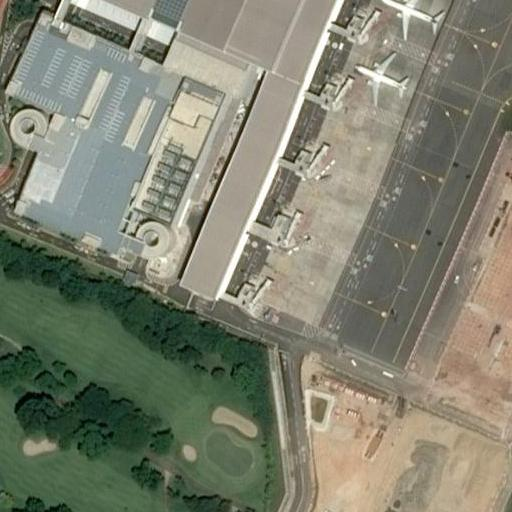Aircraft: (353, 51, 411, 105), (356, 51, 412, 102), (377, 0, 445, 41), (375, 0, 440, 39)
